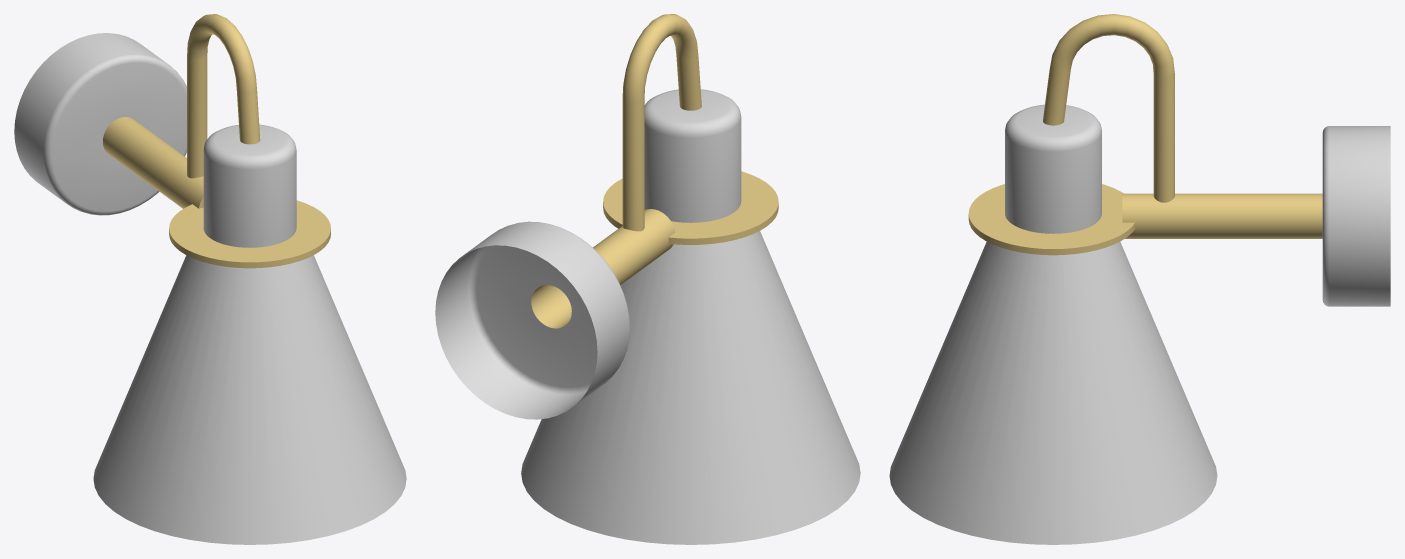
The model's file is argon_4704.fbx.
The picture shows the model from 3 angles, left to right: view 1: azimuth 30°, elevation 25°; view 2: azimuth 150°, elevation 25°; view 3: azimuth 270°, elevation 25°; orthographic projection. The views are drawn at different scales.
Visible parts, largest first — view 1: argon_4704; view 2: argon_4704; view 3: argon_4704.
Part boxes in pixels (<box>): argon_4704: <box>14,14,406,544</box>; argon_4704: <box>435,14,860,544</box>; argon_4704: <box>889,14,1390,544</box>.
Bounding box in the file's own units: 14.5 × 22.47 × 22.15.
